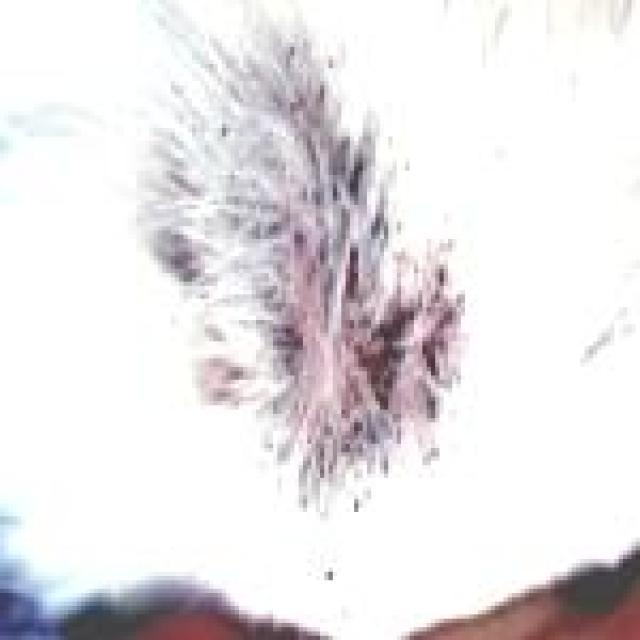fungal infection: (170, 61, 485, 496)
